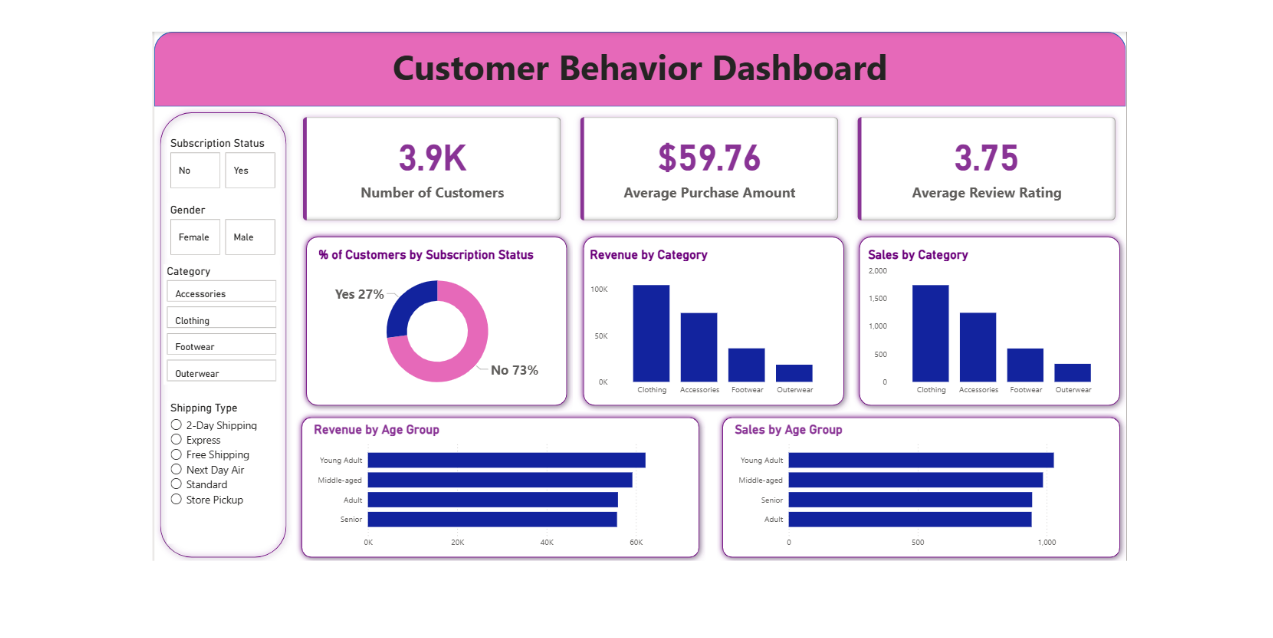

Layout of this report page (visuals, bound fields, positions):
{"tool":"powerbi","page":{"name":"Page 1","canvas":[1500,850],"ordinal":0},"visuals":[{"type":"cardVisual","fields":{"Data":["customer_behavior customer_table.Number of customers","customer_behavior customer_table.Average purchase amount","customer_behavior customer_table.Average review rating"]},"box":[236.4,96.5,1263.9,213.9],"z":0},{"type":"shape","box":[0,0,1500.3,96.5],"z":1000},{"type":"textbox","box":[0,11.3,1500.3,85.2],"z":2000},{"type":"shape","box":[257.3,326.4,390.8,241.2],"z":3000},{"type":"donutChart","title":"% of customers by subscription status","fields":{"Category":["customer_behavior customer_table.subscription_status"],"Y":["CountNonNull(customer_behavior customer_table.customer_id)"]},"box":[270.2,336.1,368.2,220.3],"z":4000},{"type":"shape","box":[672.2,326.4,387.5,241.2],"z":5000},{"type":"shape","box":[1093.5,326.4,376.3,241.2],"z":6000},{"type":"clusteredColumnChart","title":"Revenue by category","fields":{"Y":["Sum(customer_behavior customer_table.purchase_amount)"],"Category":["customer_behavior customer_table.category"]},"box":[686.6,336.1,358.6,210.7],"z":6001},{"type":"clusteredColumnChart","title":"Sale by category","fields":{"Category":["customer_behavior customer_table.category"],"Y":["CountNonNull(customer_behavior customer_table.customer_id)"]},"box":[1104.7,336.1,352.2,197.8],"z":6002},{"type":"shape","box":[0,96.5,257.3,754.2],"z":6003},{"type":"advancedSlicerVisual","fields":{"Values":["customer_behavior customer_table.subscription_status"]},"box":[19.3,139.9,218.7,99],"z":6004},{"type":"advancedSlicerVisual","fields":{"Values":["customer_behavior customer_table.gender"]},"box":[19.3,239.6,209,114.2],"z":6005},{"type":"advancedSlicerVisual","fields":{"Values":["customer_behavior customer_table.category"]},"box":[24.1,353.8,197.8,230],"z":6006},{"type":"listSlicer","fields":{"Values":["customer_behavior customer_table.shipping_type"]},"box":[19.3,595,209,217.1],"z":6007},{"type":"clusteredBarChart","title":"Revenue by age_group","fields":{"Category":["customer_behavior customer_table.age_group"],"Y":["Sum(customer_behavior customer_table.purchase_amount)"]},"box":[897.3,609.5,559.6,223.5],"z":6008},{"type":"clusteredBarChart","title":"Sales by age_group","fields":{"Category":["customer_behavior customer_table.age_group"],"Y":["CountNonNull(customer_behavior customer_table.customer_id)"]},"box":[270.2,609.5,577.3,228.3],"z":6011}]}

Visuals, with their boxes on the page's 1500x850 design canvas (x1, y1, x2, y2). These are canvas units, not pixel positions in the 1273x638 screenshot, which may show the page scaled, cropped or inside an application window:
cardVisual - customer_behavior customer_table.Number of customers x customer_behavior customer_table.Average purchase amount: [236,96,1500,310]
shape: [0,0,1500,96]
textbox: [0,11,1500,96]
shape: [257,326,648,568]
"% of customers by subscription status" donutChart: [270,336,638,556]
shape: [672,326,1060,568]
shape: [1094,326,1470,568]
"Revenue by category" clusteredColumnChart: [687,336,1045,547]
"Sale by category" clusteredColumnChart: [1105,336,1457,534]
shape: [0,96,257,851]
advancedSlicerVisual - customer_behavior customer_table.subscription_status: [19,140,238,239]
advancedSlicerVisual - customer_behavior customer_table.gender: [19,240,228,354]
advancedSlicerVisual - customer_behavior customer_table.category: [24,354,222,584]
listSlicer - customer_behavior customer_table.shipping_type: [19,595,228,812]
"Revenue by age_group" clusteredBarChart: [897,610,1457,833]
"Sales by age_group" clusteredBarChart: [270,610,848,838]
